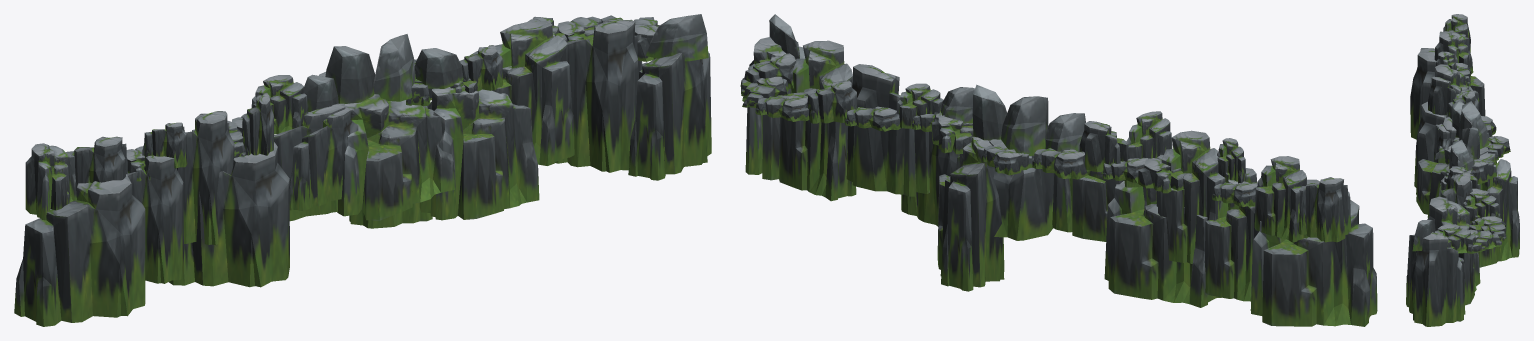
File: Area07_10_y.FBX
3 views of the same model, side by side, from view 1: azimuth 30°, elevation 25°; view 2: azimuth 150°, elevation 25°; view 3: azimuth 270°, elevation 25° (orthographic). The views are drawn at different scales.
Parts seen in each view (by area): view 1: Area07_10_y; view 2: Area07_10_y; view 3: Area07_10_y.
Boxes of the visible parts, x1,y1,x2,y2 form: Area07_10_y: [14, 14, 711, 326]; Area07_10_y: [740, 14, 1377, 326]; Area07_10_y: [1406, 14, 1519, 326].
Size of the model in its own units: 11939 by 3267 by 2571.
Materials: 1 (1 with a texture image).
